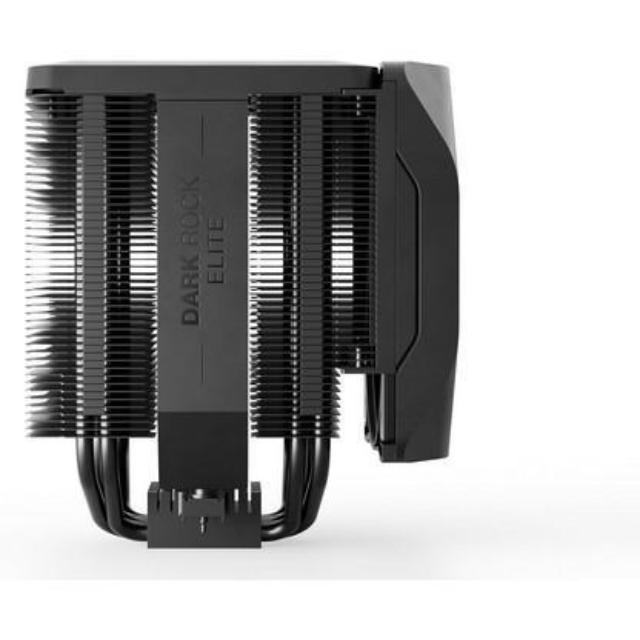CPU_Fan: (23, 64, 455, 552)
